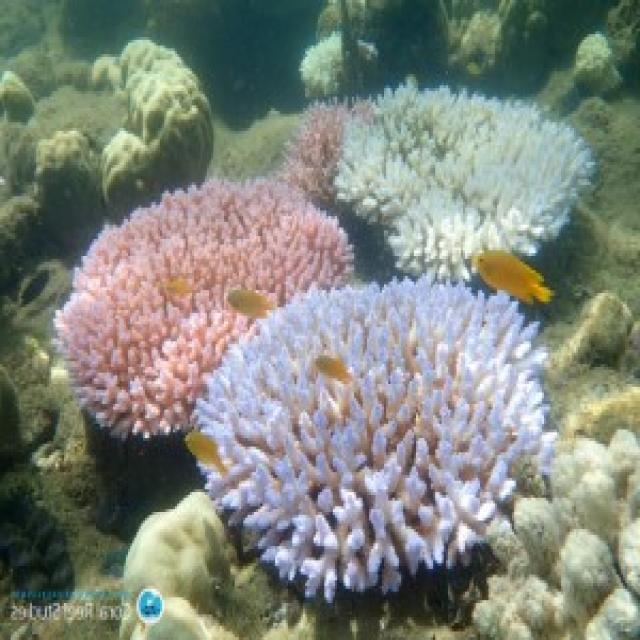Bleached: (195, 288, 544, 600), (343, 85, 596, 286), (475, 393, 639, 640), (1, 37, 218, 189), (123, 491, 226, 640), (446, 1, 520, 79), (301, 33, 378, 96), (570, 32, 616, 88)
Healthy: (57, 188, 351, 438), (278, 100, 345, 205)
